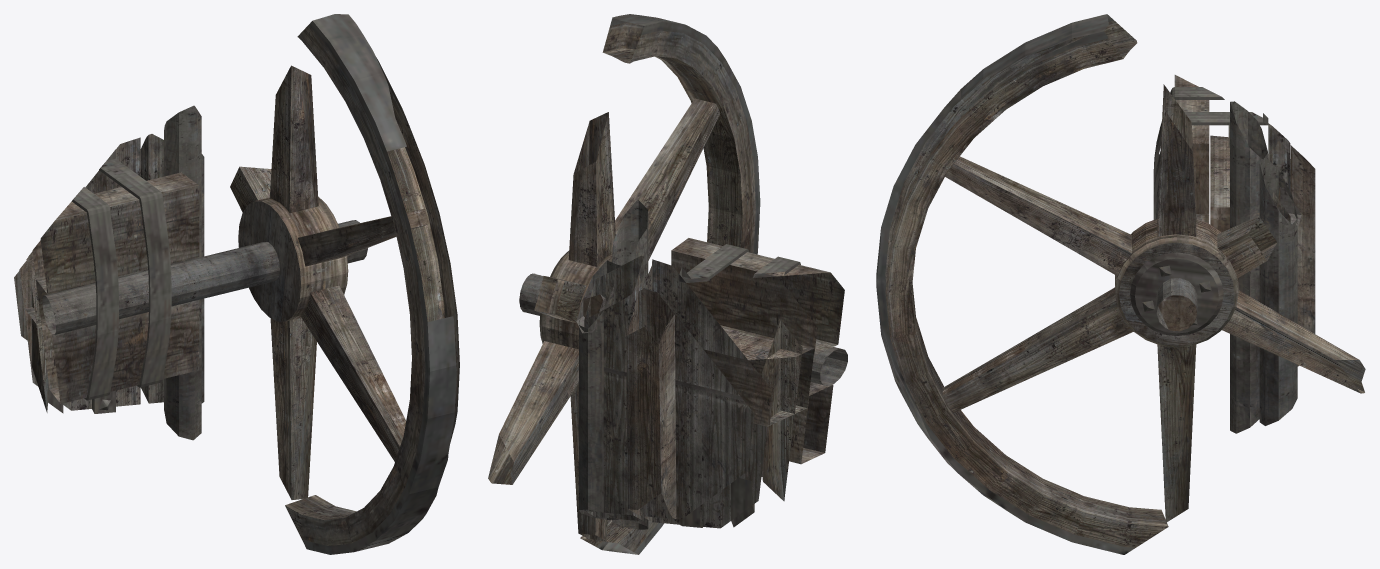
File: Wagon3_1.fbx
3 views of the same model, side by side, from view 1: azimuth 30°, elevation 25°; view 2: azimuth 150°, elevation 25°; view 3: azimuth 270°, elevation 25° (orthographic).
Visible parts, largest first — view 1: SM_Wagon03_DM.001; view 2: SM_Wagon03_DM.001; view 3: SM_Wagon03_DM.001.
Boxes of the visible parts, <box> form: SM_Wagon03_DM.001: <box>14,14,459,554</box>; SM_Wagon03_DM.001: <box>488,14,847,554</box>; SM_Wagon03_DM.001: <box>876,14,1365,554</box>.
Size of the model in its own units: 7418 by 11874 by 10031.
